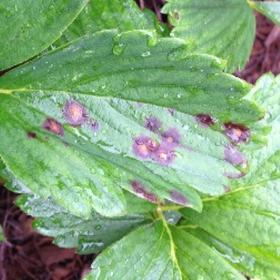Leaf Spot: (0, 28, 272, 222)
